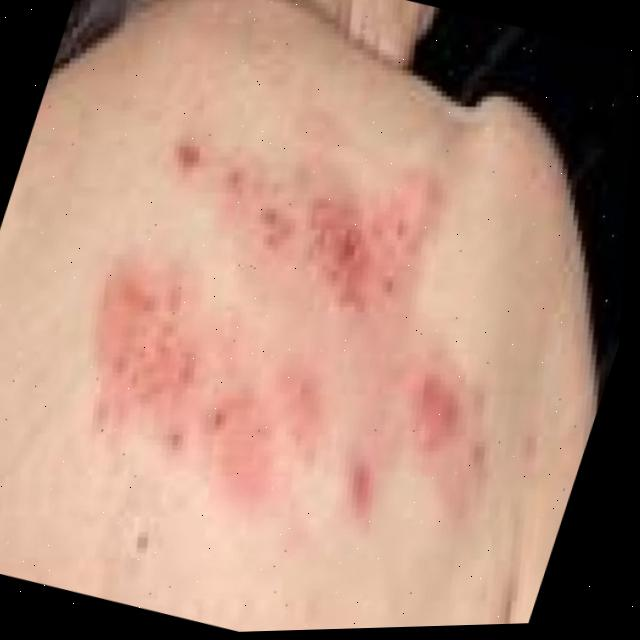Shingles: (34, 88, 589, 566)
